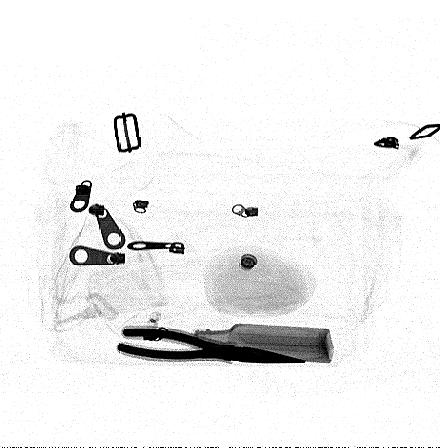Pliers: (111, 323, 311, 363)
